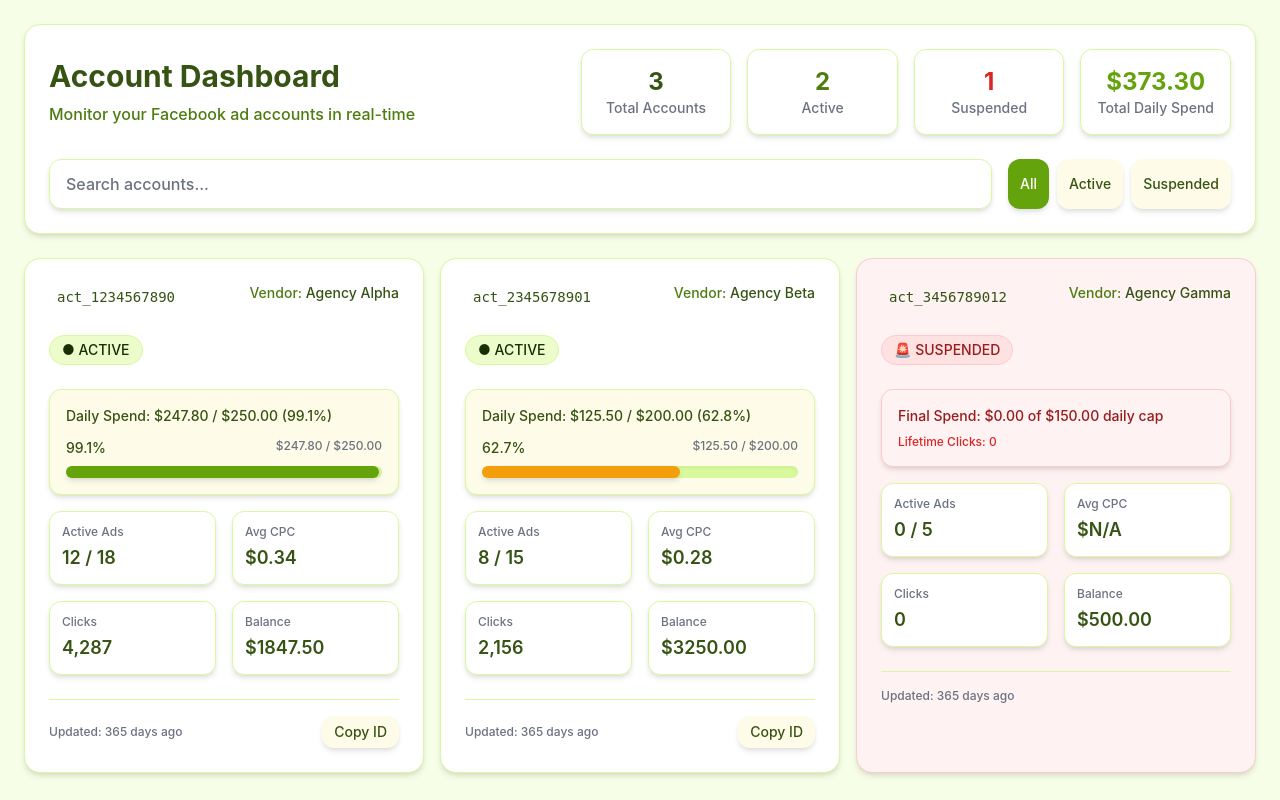
Scenario: DashboardGrid › filters active accounts correctly
Click the button "Active" at point(1090, 184), box [1057,159,1123,209]
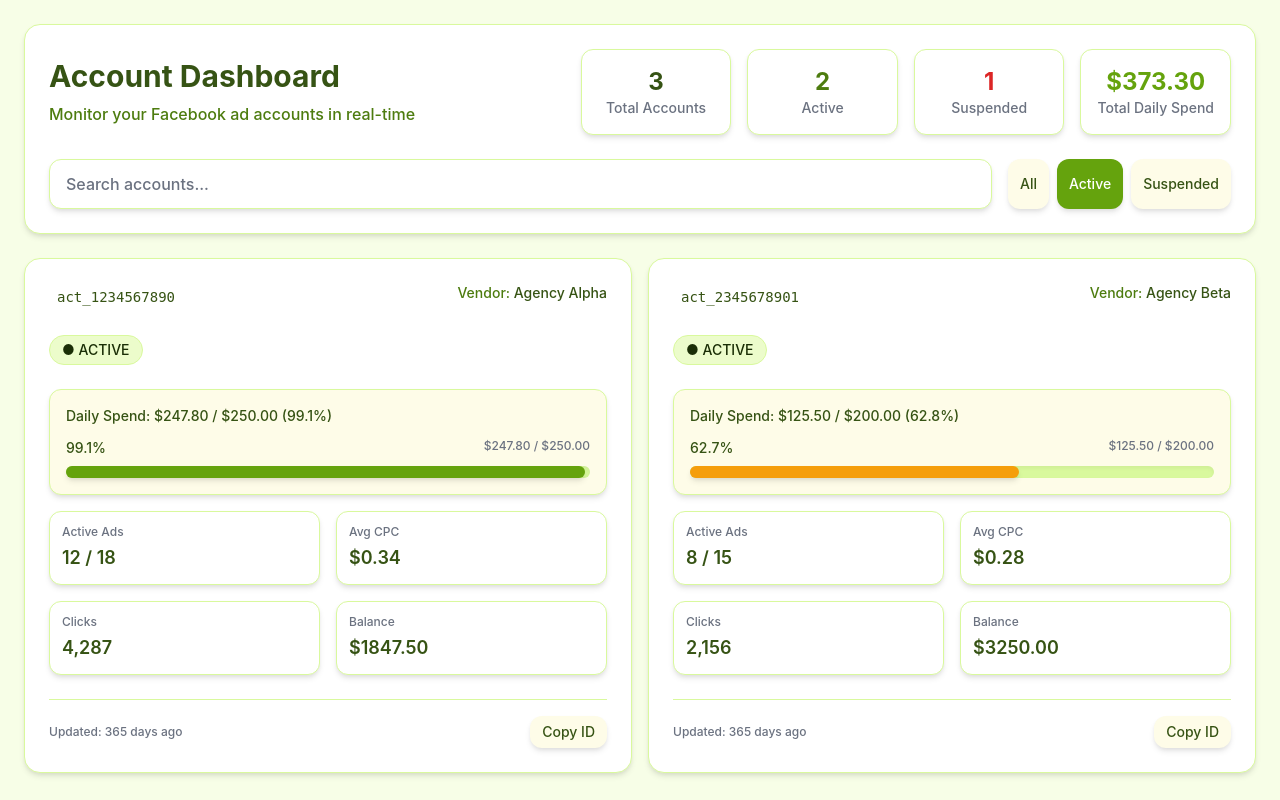
Result: the number of elements with test id "account-card" is 2 at [24,258,632,773]; [648,258,1256,773]
Result: the text "● ACTIVE" is shown 2 times at [49,335,142,365]; [673,335,766,365]
